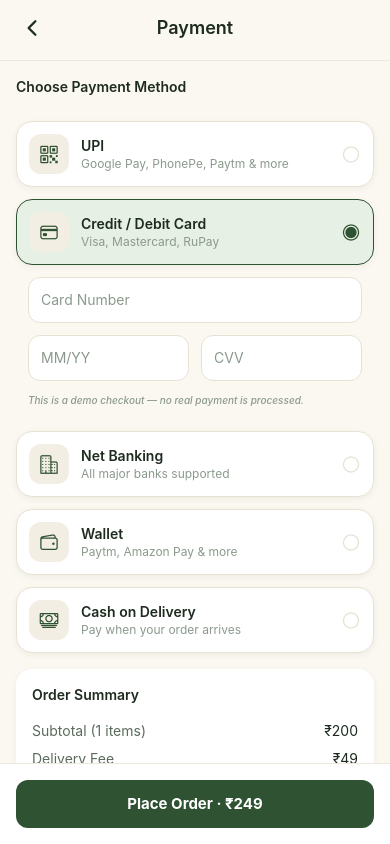
Test case: CheckoutPaymentScreen › card payment validation › clears a field error as soon as that field is edited again
Click the button "Place Order · ₹249" at (195,804), box [16,780,374,828]
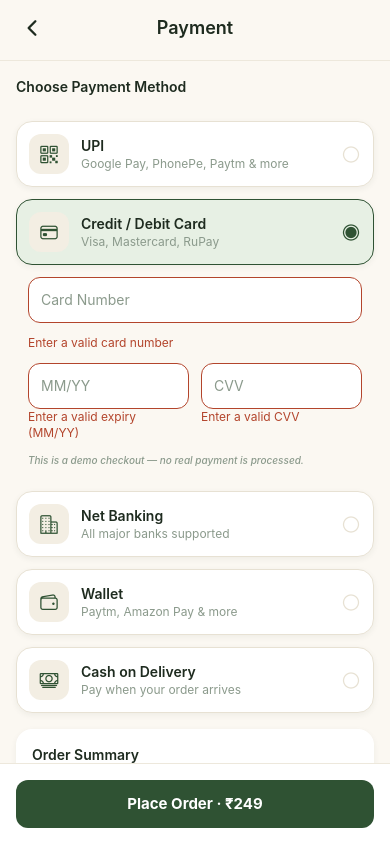
Expected: the text "Enter a valid card number" is shown, [28,335,173,350]
Type "4111111111111111" into the field with placeholder "Card Number" at (195,300), box [28,277,362,323]
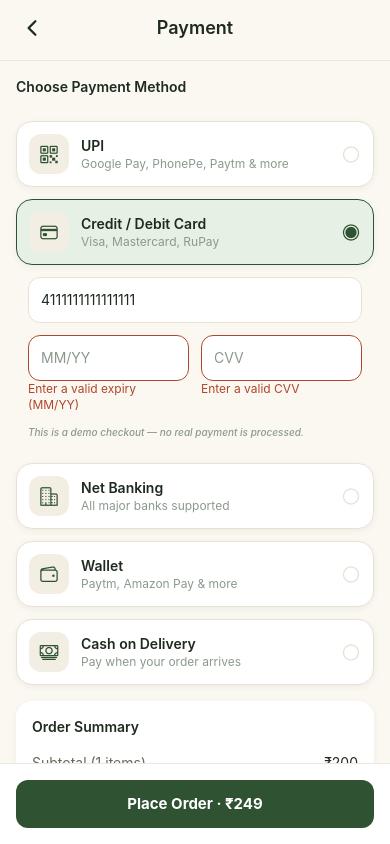
Expected: the text "Enter a valid card number" is gone
